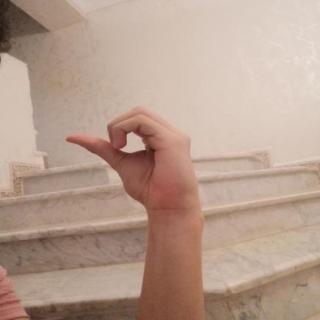WAW: (53, 98, 209, 216)
